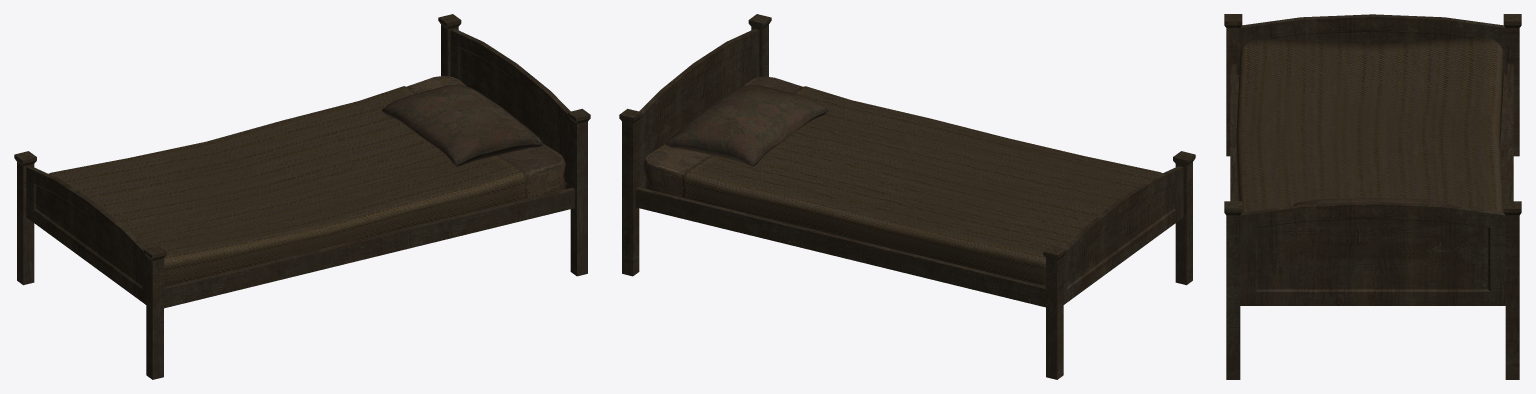
File: bed_5_4.dae
The picture shows the model from 3 angles, left to right: view 1: azimuth 30°, elevation 25°; view 2: azimuth 150°, elevation 25°; view 3: azimuth 270°, elevation 25°; orthographic projection. The views are drawn at different scales.
Visible parts, largest first — view 1: bed_5_4; view 2: bed_5_4; view 3: bed_5_4.
Boxes of the visible parts, left/top/right/bottom form: bed_5_4: left=14, top=14, right=590, bottom=379; bed_5_4: left=619, top=14, right=1195, bottom=379; bed_5_4: left=1224, top=14, right=1521, bottom=379.
Size of the model in its own units: 2.74 by 1.49 by 0.9621.
3 materials, 3 textured.
